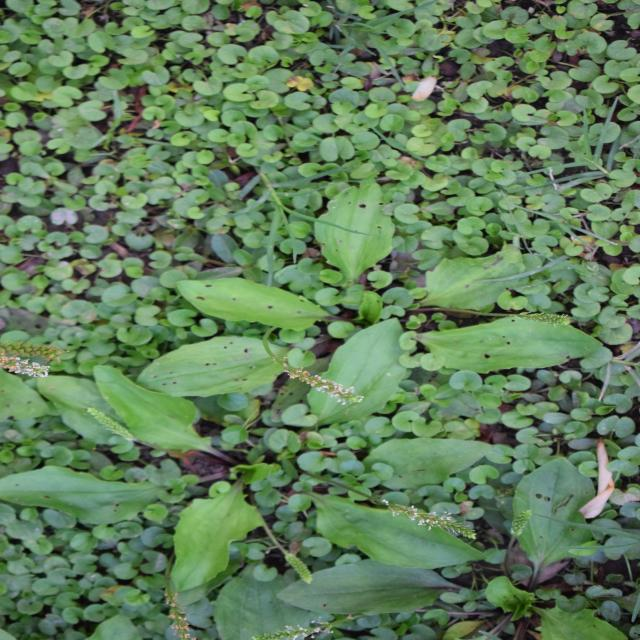plantain: (236, 159, 454, 577)
